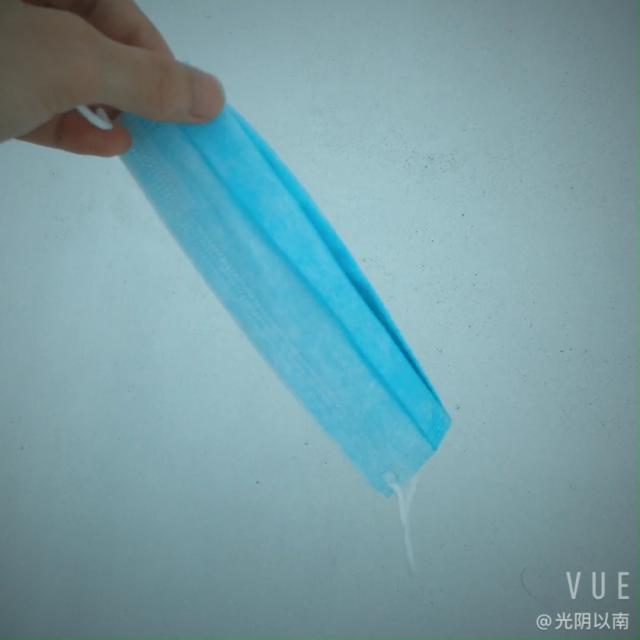non-organic waste: (88, 67, 501, 510)
